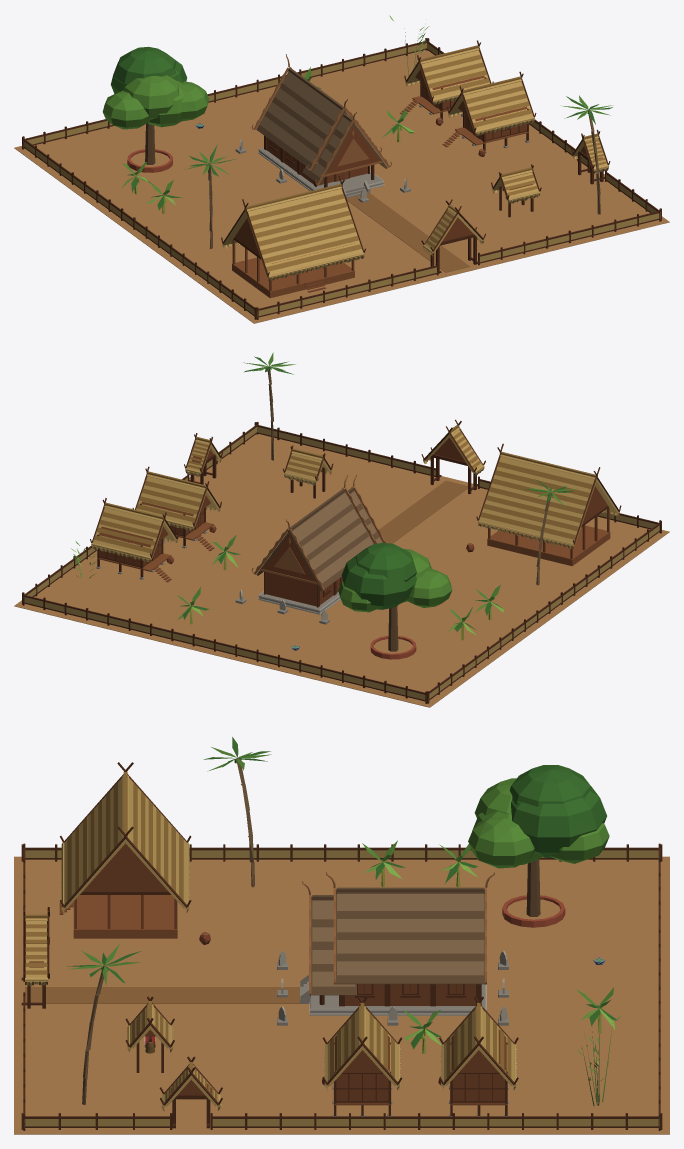
Rendered from temple_1.glb.
The picture shows the model from 3 angles, top to bottom: view 1: azimuth 30°, elevation 25°; view 2: azimuth 150°, elevation 25°; view 3: azimuth 270°, elevation 25°; orthographic projection. The views are drawn at different scales.
Visible parts, largest first — view 1: body; view 2: body; view 3: body.
Part boxes in pixels (<box>): body: <box>14,15,669,323</box>; body: <box>14,352,669,707</box>; body: <box>14,737,669,1134</box>.
Size of the model in its own units: 47.9 by 11.89 by 47.9.
